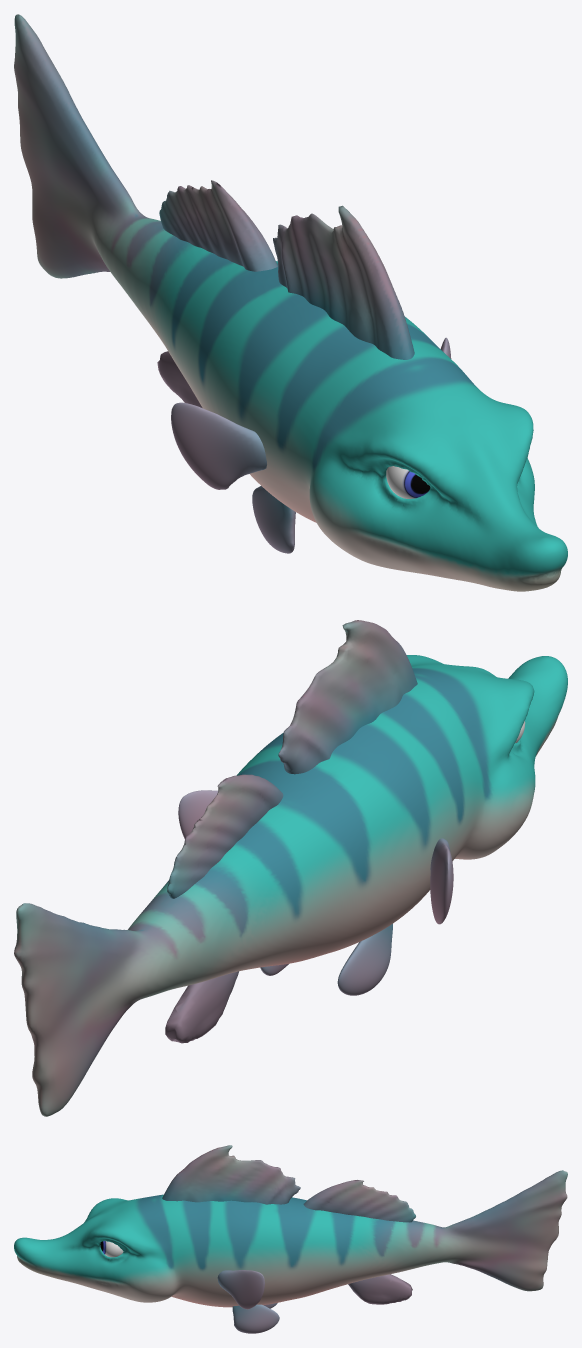
The model's file is Fishes_Little_Barracuda_1_Base.glb.
3 views of the same model, one above another, from view 1: azimuth 30°, elevation 25°; view 2: azimuth 150°, elevation 25°; view 3: azimuth 270°, elevation 25° (orthographic). The views are drawn at different scales.
Visible parts, largest first — view 1: Sphere.015, Sphere.014, Sphere.013, Sphere.016, Little fish 02 Eyes_Base.006, Sphere.017; view 2: Sphere.015, Sphere.014, Sphere.017, Sphere.013, Sphere.016; view 3: Sphere.015, Sphere.014, Sphere.017, Sphere.013, Sphere.016, Little fish 02 Eyes_Base.006.
Part boxes in pixels (x1=…): Sphere.015: x1=14, y1=14, x2=567, y2=591; Sphere.014: x1=159, y1=180, x2=414, y2=359; Sphere.013: x1=171, y1=337, x2=451, y2=489; Sphere.016: x1=252, y1=486, x2=295, y2=553; Little fish 02 Eyes_Base.006: x1=386, y1=466, x2=430, y2=498; Sphere.017: x1=157, y1=351, x2=202, y2=407; Sphere.015: x1=14, y1=655, x2=567, y2=1116; Sphere.014: x1=167, y1=620, x2=417, y2=898; Sphere.017: x1=165, y1=971, x2=238, y2=1043; Sphere.013: x1=178, y1=790, x2=453, y2=924; Sphere.016: x1=260, y1=924, x2=392, y2=995; Sphere.015: x1=14, y1=1170, x2=567, y2=1307; Sphere.014: x1=162, y1=1145, x2=415, y2=1222; Sphere.017: x1=348, y1=1274, x2=412, y2=1304; Sphere.013: x1=217, y1=1270, x2=264, y2=1309; Sphere.016: x1=232, y1=1303, x2=279, y2=1333; Little fish 02 Eyes_Base.006: x1=100, y1=1241, x2=123, y2=1257.
Bounding box in the file's own units: 0.6768 × 0.8112 × 2.3.
